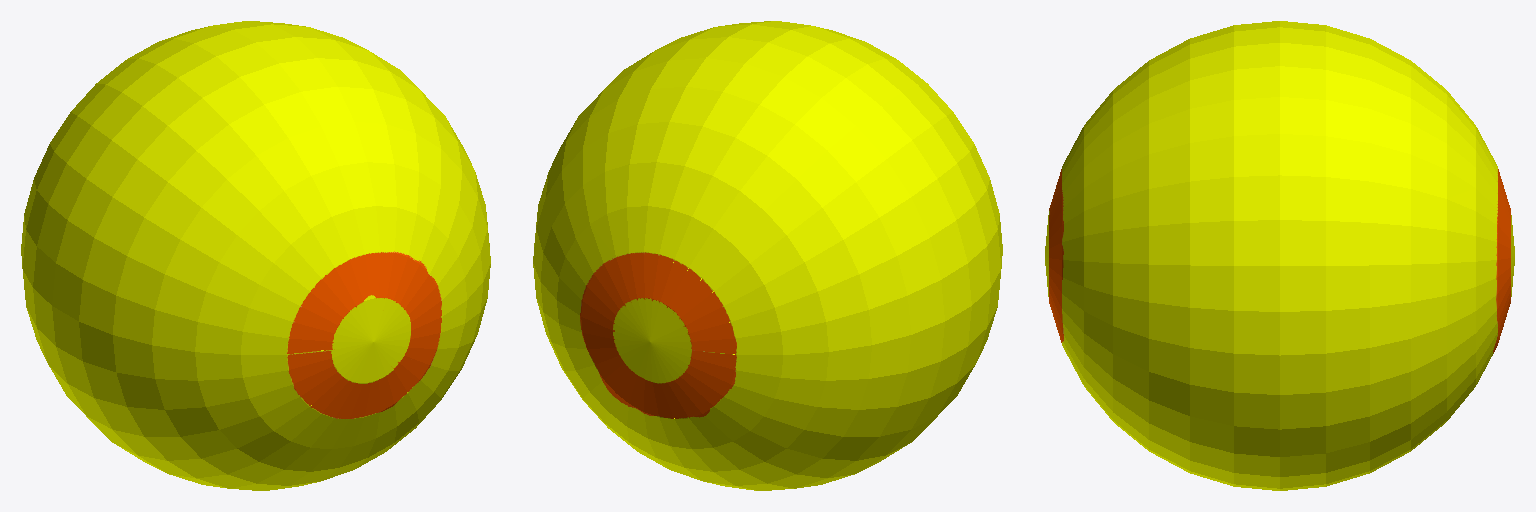
3 views of the same model, side by side, from view 1: azimuth 30°, elevation 25°; view 2: azimuth 150°, elevation 25°; view 3: azimuth 270°, elevation 25° (orthographic).
Visible parts, largest first — view 1: 球; view 2: 球; view 3: 球.
Part boxes in pixels (left/top/right/bottom): 球: left=21, top=21, right=490, bottom=490; 球: left=533, top=21, right=1002, bottom=490; 球: left=1045, top=21, right=1514, bottom=490.
Bounding box in the file's own units: 0.5 × 0.5 × 0.5.
1 materials, 1 textured.